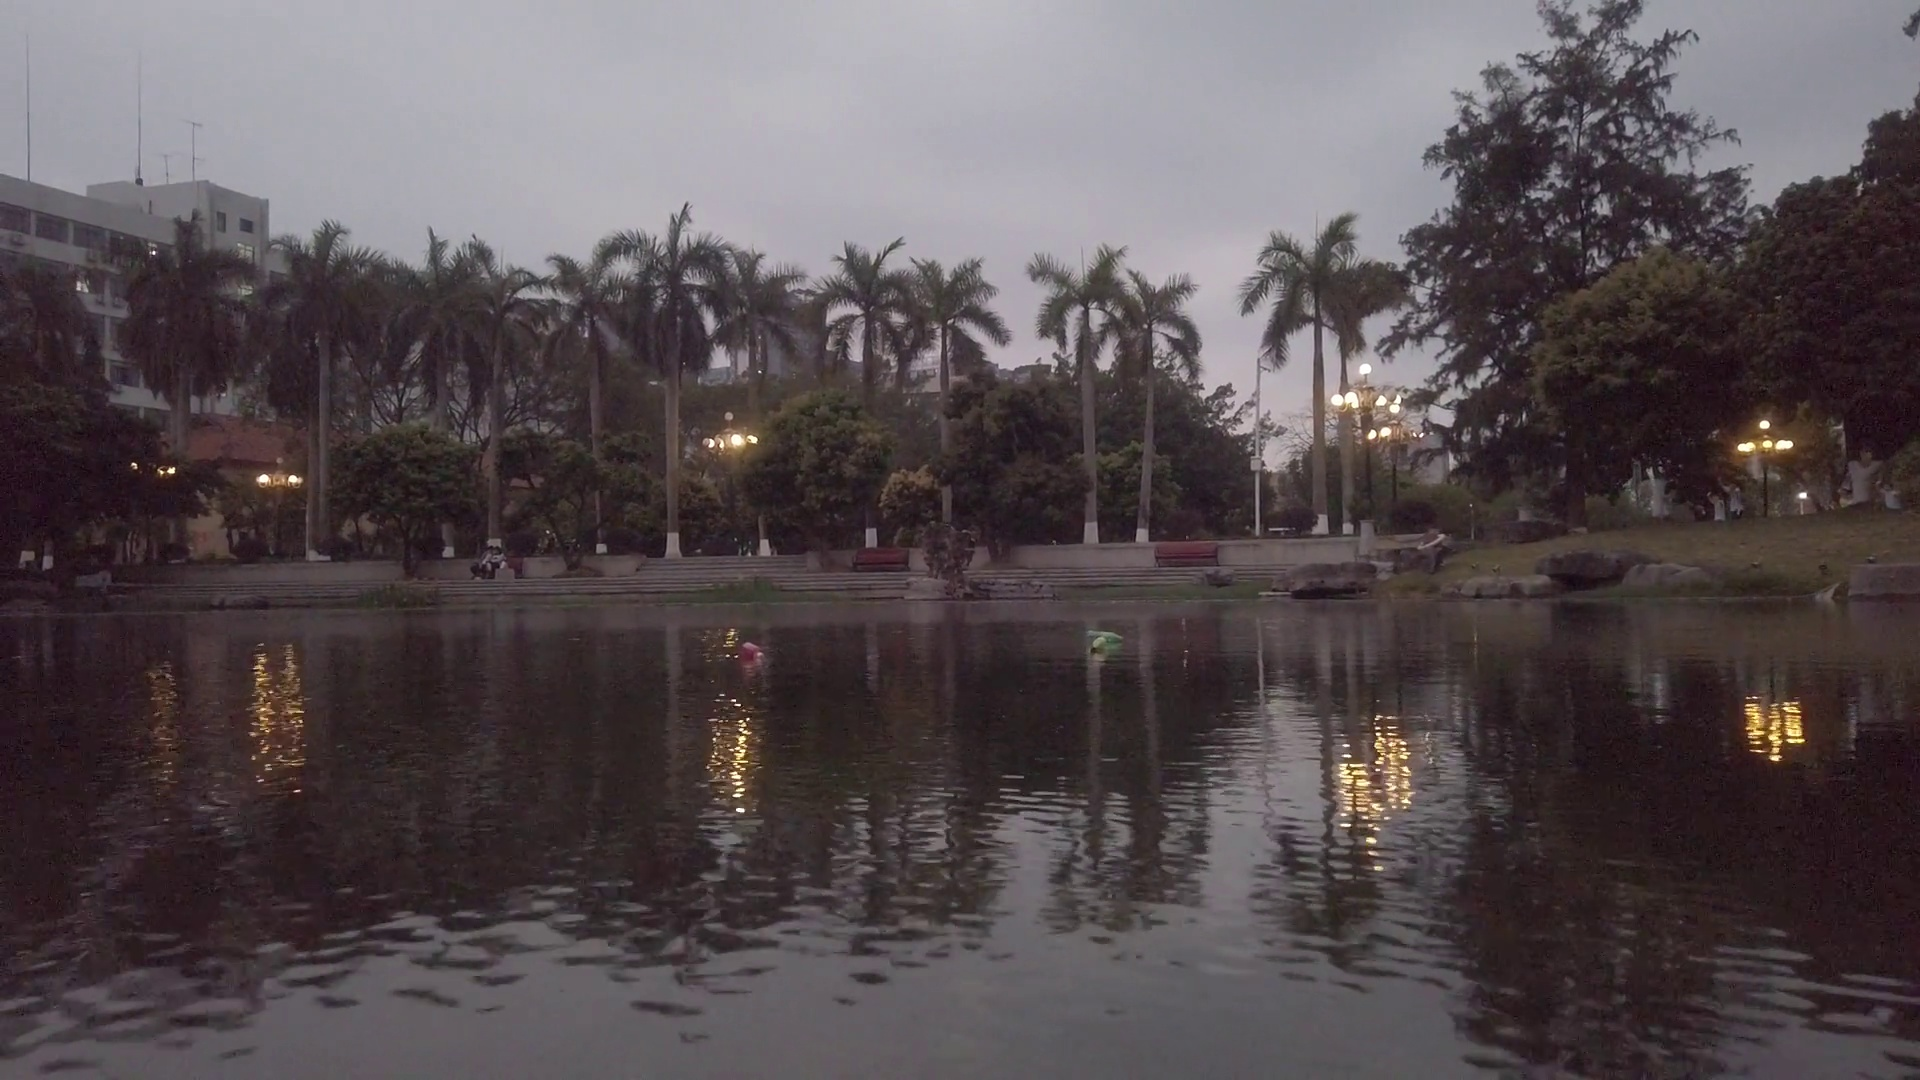bottle: (1087, 628, 1130, 644), (740, 638, 765, 659), (1091, 636, 1106, 659)
